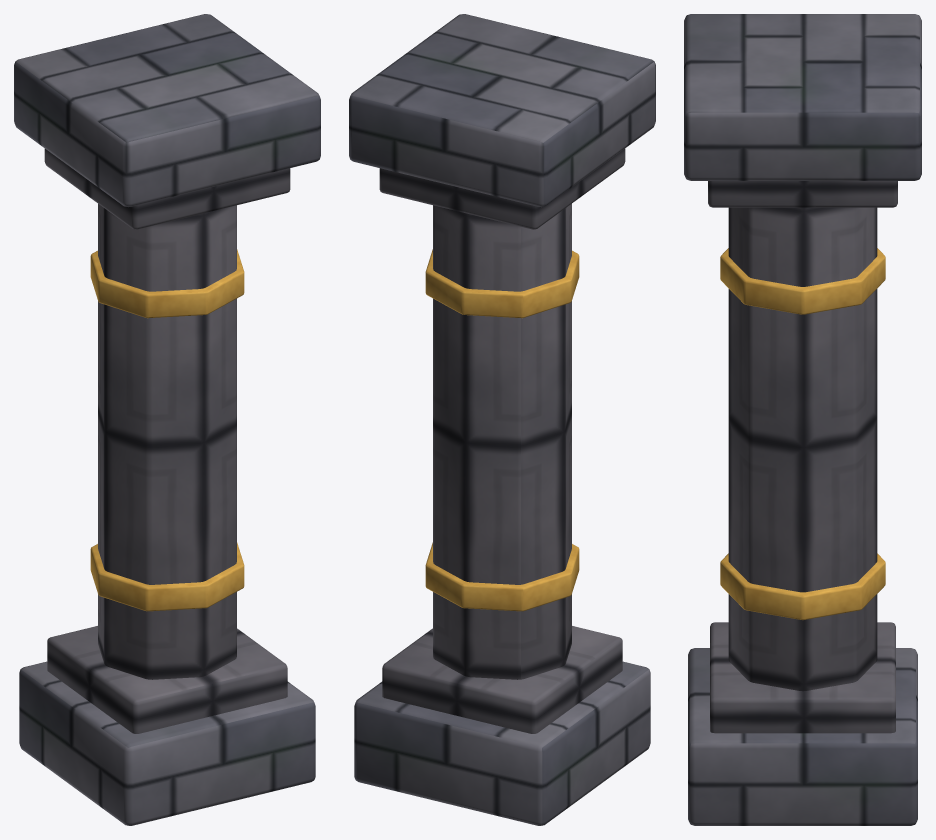
File: pillar.glb
3 views of the same model, side by side, from view 1: azimuth 30°, elevation 25°; view 2: azimuth 150°, elevation 25°; view 3: azimuth 270°, elevation 25° (orthographic). The views are drawn at different scales.
Parts seen in each view (by area): view 1: PillarShaft, PillarCap, PillarBase, PillarPlinth, PillarNeck, BronzeBand, BronzeBand.001; view 2: PillarShaft, PillarCap, PillarBase, PillarPlinth, PillarNeck, BronzeBand, BronzeBand.001; view 3: PillarShaft, PillarCap, PillarBase, PillarPlinth, PillarNeck, BronzeBand.001, BronzeBand.
Boxes of the visible parts, <box> form: PillarShaft: <box>98,204,236,679</box>; PillarCap: <box>14,14,320,206</box>; PillarBase: <box>19,661,315,825</box>; PillarPlinth: <box>47,626,287,733</box>; PillarNeck: <box>44,148,290,229</box>; BronzeBand: <box>90,542,244,611</box>; BronzeBand.001: <box>90,249,244,318</box>; PillarShaft: <box>433,204,571,679</box>; PillarCap: <box>349,14,655,206</box>; PillarBase: <box>354,661,650,825</box>; PillarPlinth: <box>382,626,622,733</box>; PillarNeck: <box>379,148,625,229</box>; BronzeBand: <box>425,542,579,611</box>; BronzeBand.001: <box>425,249,579,318</box>; PillarShaft: <box>728,207,877,691</box>; PillarCap: <box>684,14,921,180</box>; PillarBase: <box>688,648,917,825</box>; PillarPlinth: <box>710,622,895,733</box>; PillarNeck: <box>708,181,897,207</box>; BronzeBand.001: <box>720,248,885,314</box>; BronzeBand: <box>720,553,885,619</box>.
Size of the model in its own units: 1.2 by 4 by 1.2.
Materials: 3 (3 with a texture image).
